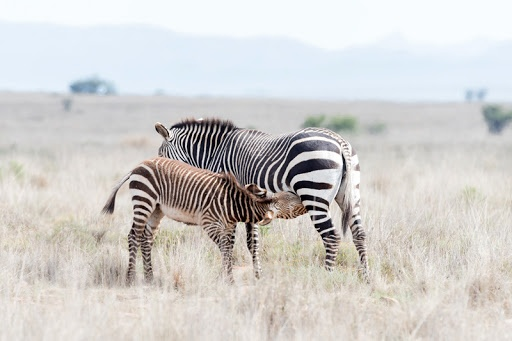zebra: (262, 196, 481, 341), (204, 217, 399, 341)
